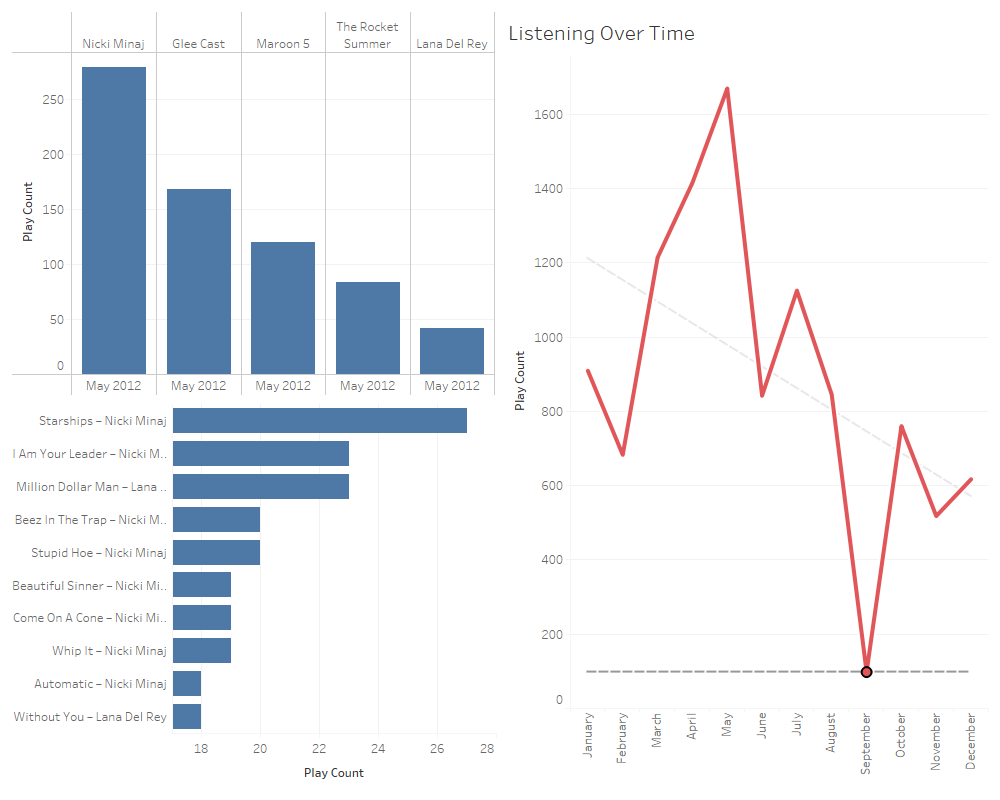

This screenshot's page, from the dashboard's own definition file:
{"tool":"tableau","page":{"name":"Listening Activity","canvas":[1000,800],"ordinal":1},"visuals":[{"type":"worksheet","title":"Sheet 6","mark":"Bar","rows":["ms_played"],"cols":["master_metadata_album_artist_name","ts"],"box":[8,8,492,392]},{"type":"worksheet","title":"Sheet 5","mark":"Line","rows":["ms_played"],"cols":["ts"],"box":[500,8,492,784]},{"type":"worksheet","title":"Sheet 7","mark":"Bar","rows":["Calculation_7427561749336354817"],"cols":["ms_played"],"box":[8,400,492,392]}]}

Visuals, with their boxes in screenshot pixels (x1, y1, x2, y2), scaled from the page's 1000x800 canvas onto the 1000x800 screenshot:
"Sheet 6" worksheet (Bar marks): left=8, top=8, right=500, bottom=400
"Sheet 5" worksheet (Line marks): left=500, top=8, right=992, bottom=792
"Sheet 7" worksheet (Bar marks): left=8, top=400, right=500, bottom=792
